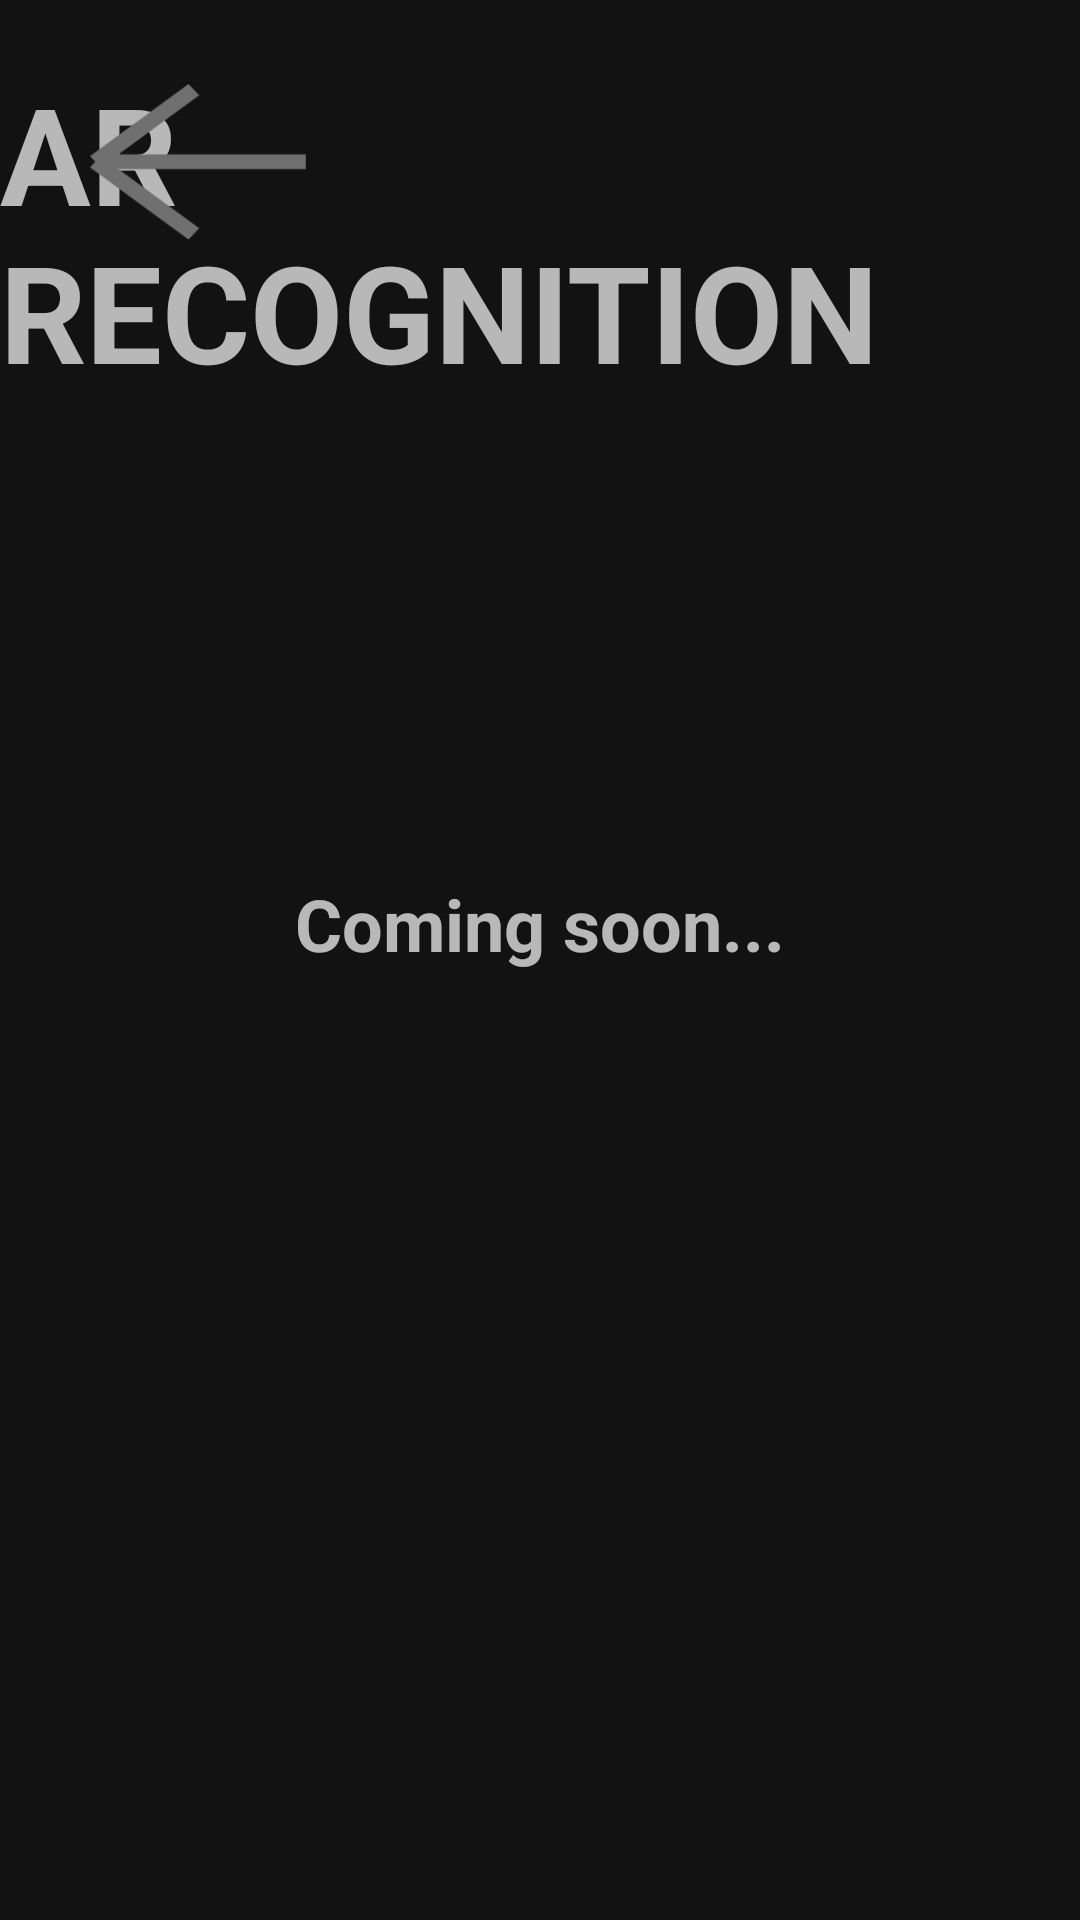

Point at icon controls on the screen. Image size 1080 × 1920, points as [x,y].
arrow: [198,161]
